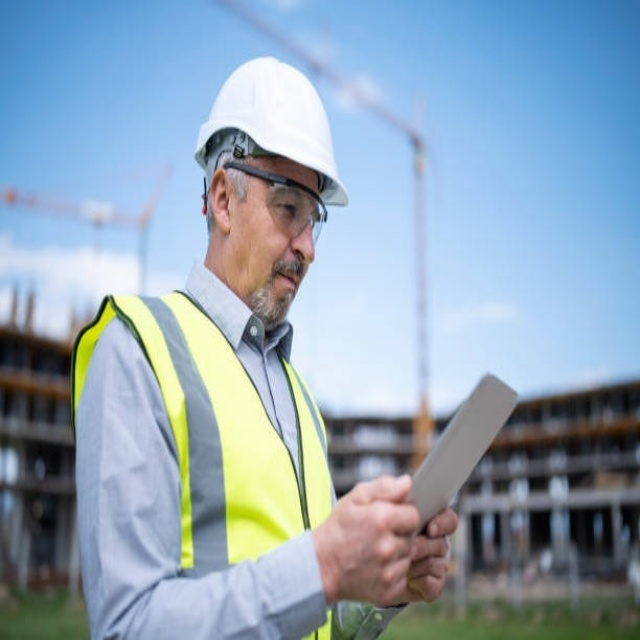Gafas: (221, 160, 330, 246)
Sin_guantes: (317, 469, 433, 609), (406, 497, 461, 612)
Sin_mascara: (250, 260, 308, 315)
